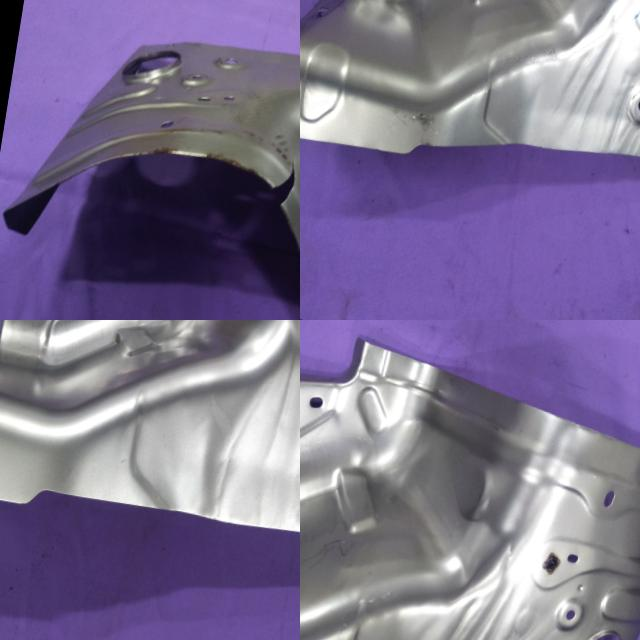Defect: (251, 138, 300, 232)
Healthy: (300, 320, 640, 640), (300, 0, 640, 209)
